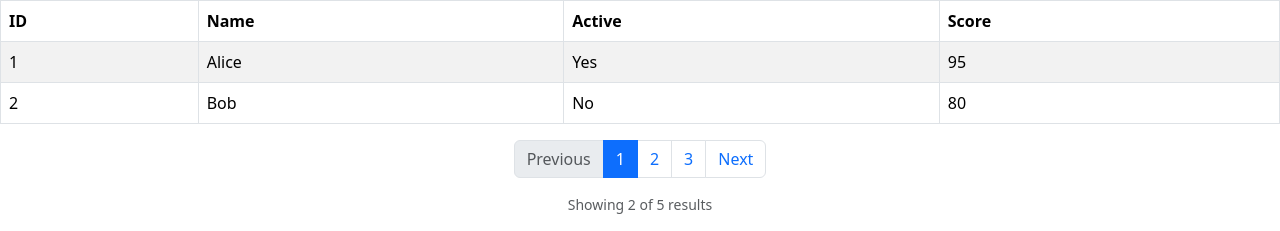
Test case: SimpleTable › Pagination › should navigate to previous page
Click the button "Next": (736, 159) 705,140 -> 766,178
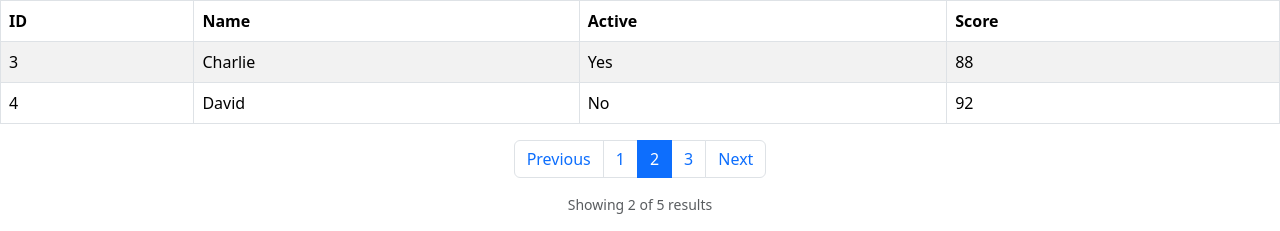
Click the button "Previous": (559, 159) 514,140 -> 604,178
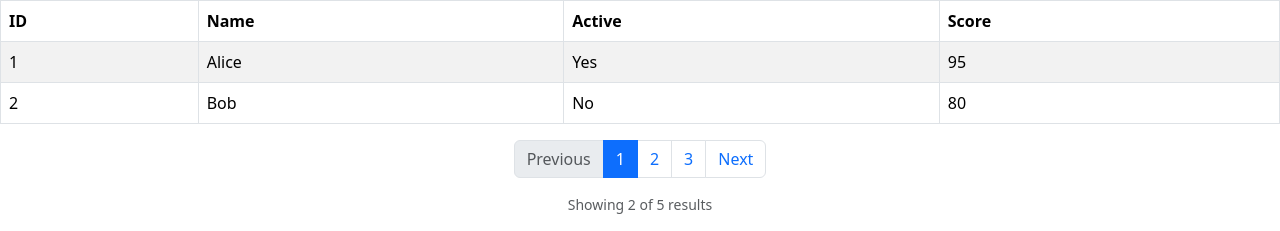
Expected: the text "Alice" is shown, 198,42 -> 564,82
